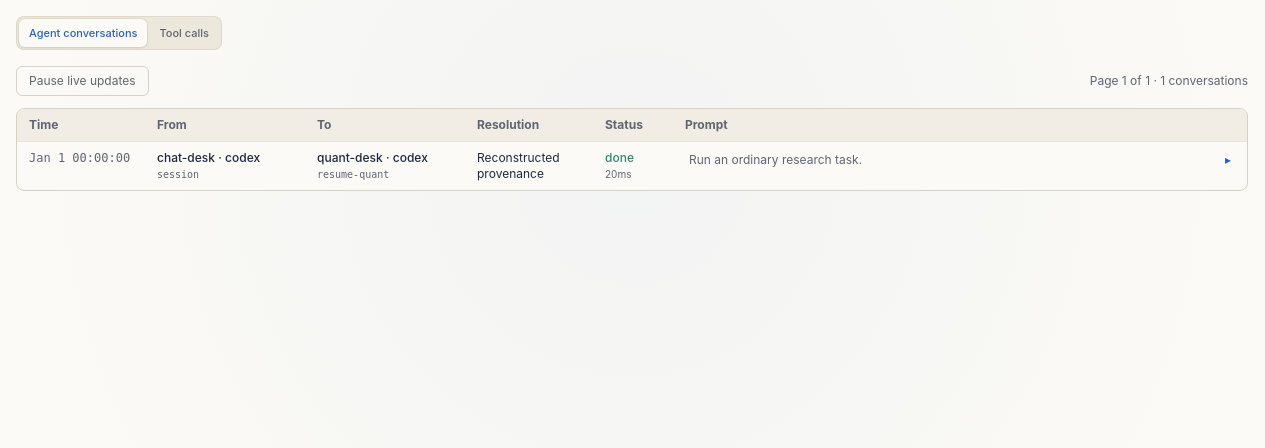
it: LogsPage Agent conversations › shows Harness-default addressing in the routing detail
Step 1. Click the button "Run an ordinary research task. ▸" → [776, 160], box [685,150,1235,170]
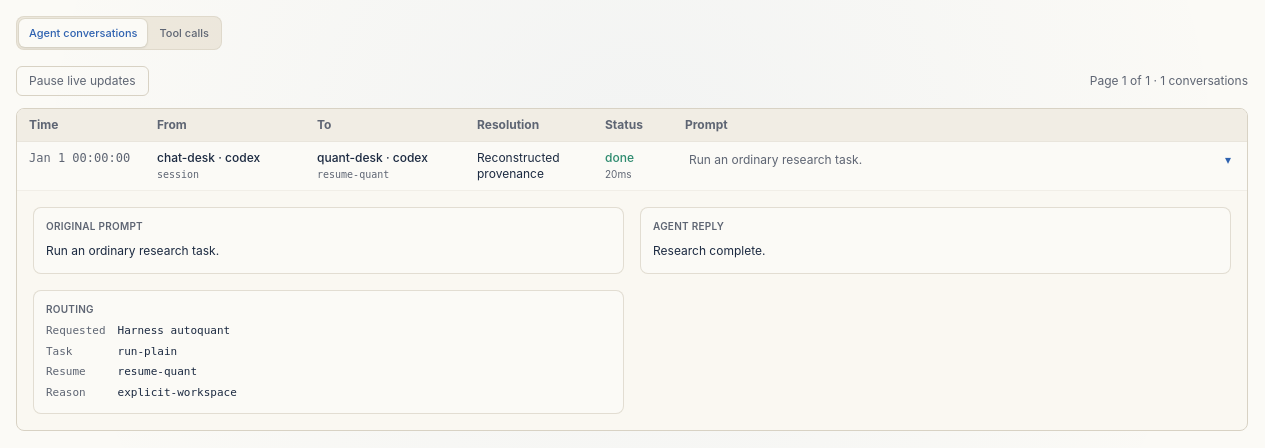
Check: the text "Harness autoquant" is shown, box [118,324,230,337]
